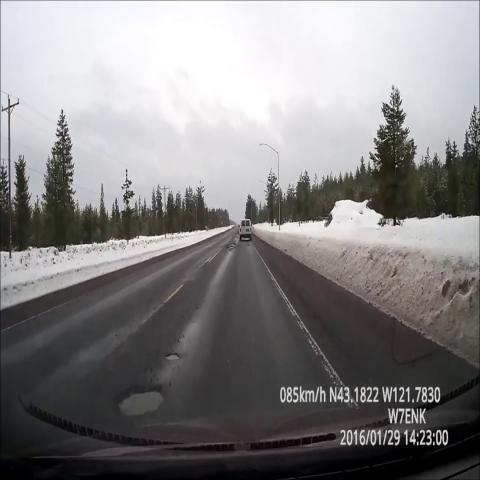pothole: (110, 373, 177, 428), (160, 341, 188, 367), (223, 233, 242, 260)
